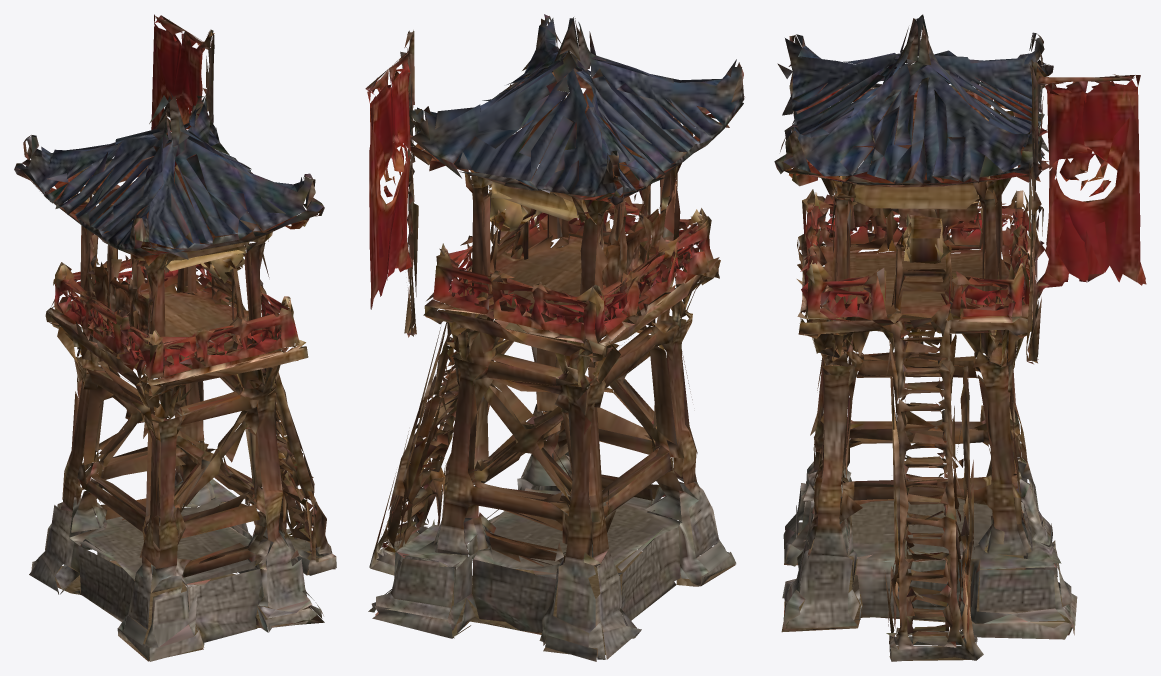
Rendered from torre_lod1.glb.
The picture shows the model from 3 angles, left to right: view 1: azimuth 30°, elevation 25°; view 2: azimuth 150°, elevation 25°; view 3: azimuth 270°, elevation 25°; orthographic projection. The views are drawn at different scales.
Parts seen in each view (by area): view 1: torre; view 2: torre; view 3: torre.
Part boxes in pixels (box(x1,y1,x2,y2)): torre: box(14, 14, 336, 661); torre: box(365, 14, 744, 661); torre: box(774, 14, 1146, 661).
Bounding box in the file's own units: 4.71 × 9.09 × 5.34.
1 material, 1 textured.
